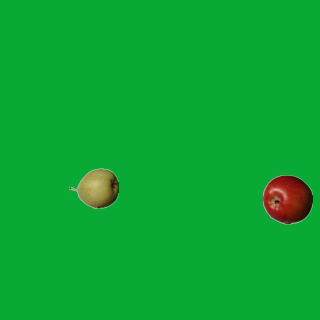Apple Braeburn: (262, 174, 312, 224)
Pear: (68, 163, 118, 213)
